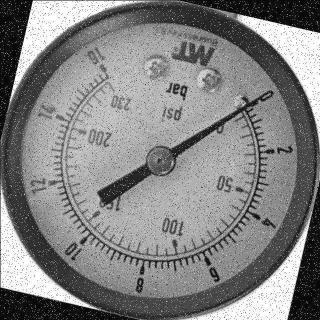gauge: (0, 0, 320, 319), (81, 46, 126, 92), (229, 80, 270, 129), (144, 145, 176, 177), (252, 89, 269, 105)
